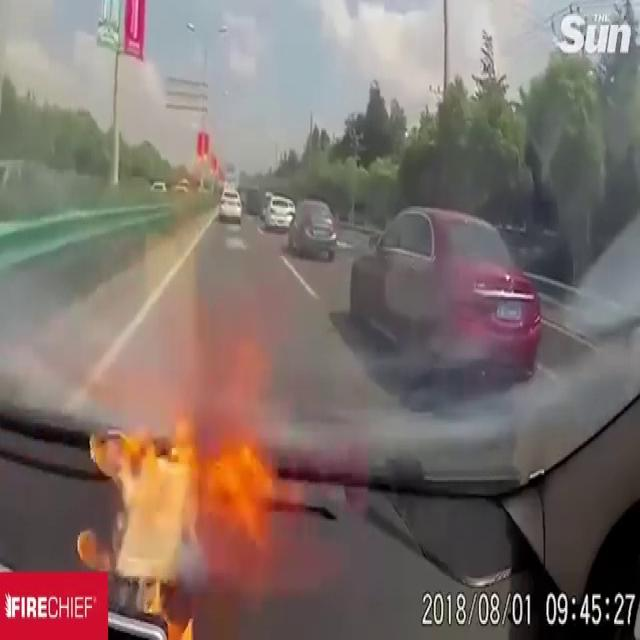fire: (81, 400, 210, 592)
